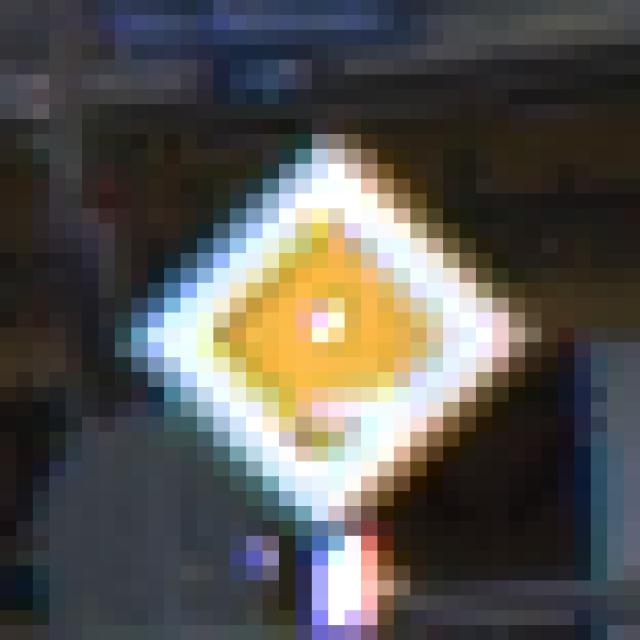Main Road: (99, 76, 559, 567)
